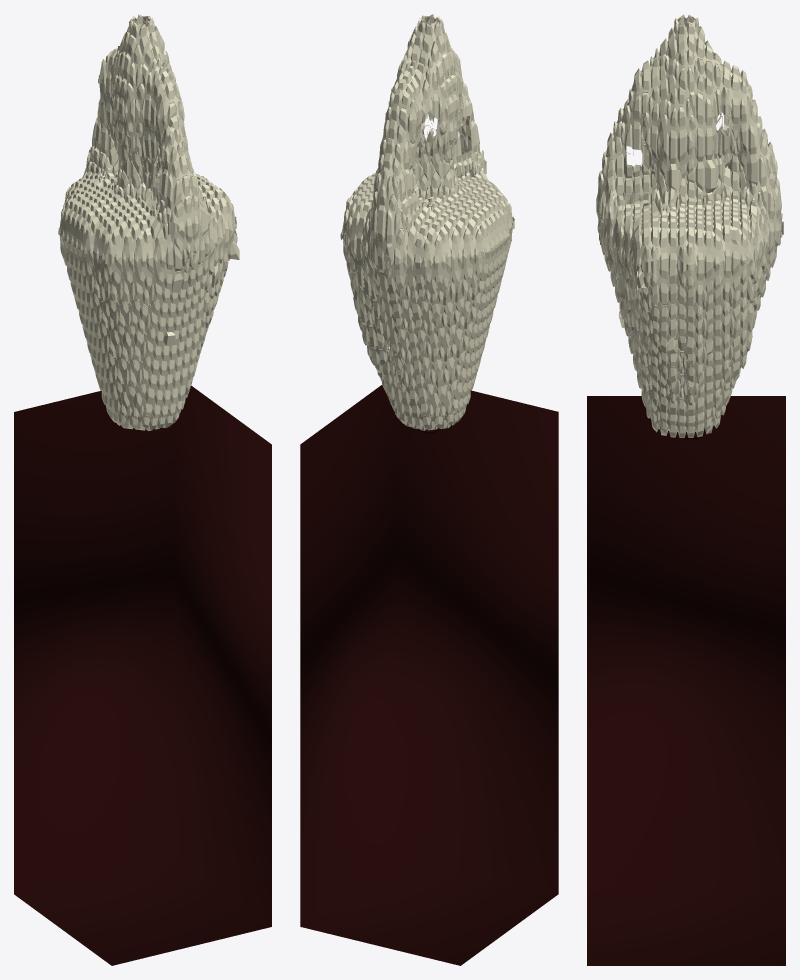
File: Sunken_Amphora.glb
3 renders of one model, left to right at view 1: azimuth 30°, elevation 25°; view 2: azimuth 150°, elevation 25°; view 3: azimuth 270°, elevation 25°, orthographic.
Visible parts, largest first — view 1: Cube, Cylinder; view 2: Cube, Cylinder; view 3: Cube, Cylinder.
Boxes of the visible parts, box(x1,y1,x2,y2) form: Cube: box(14, 385, 271, 965); Cylinder: box(58, 14, 239, 431); Cube: box(300, 385, 558, 965); Cylinder: box(340, 14, 514, 430); Cube: box(587, 396, 785, 965); Cylinder: box(596, 14, 783, 437).
Bounding box in the file's own units: 0.2609 × 1.39 × 0.2761.
